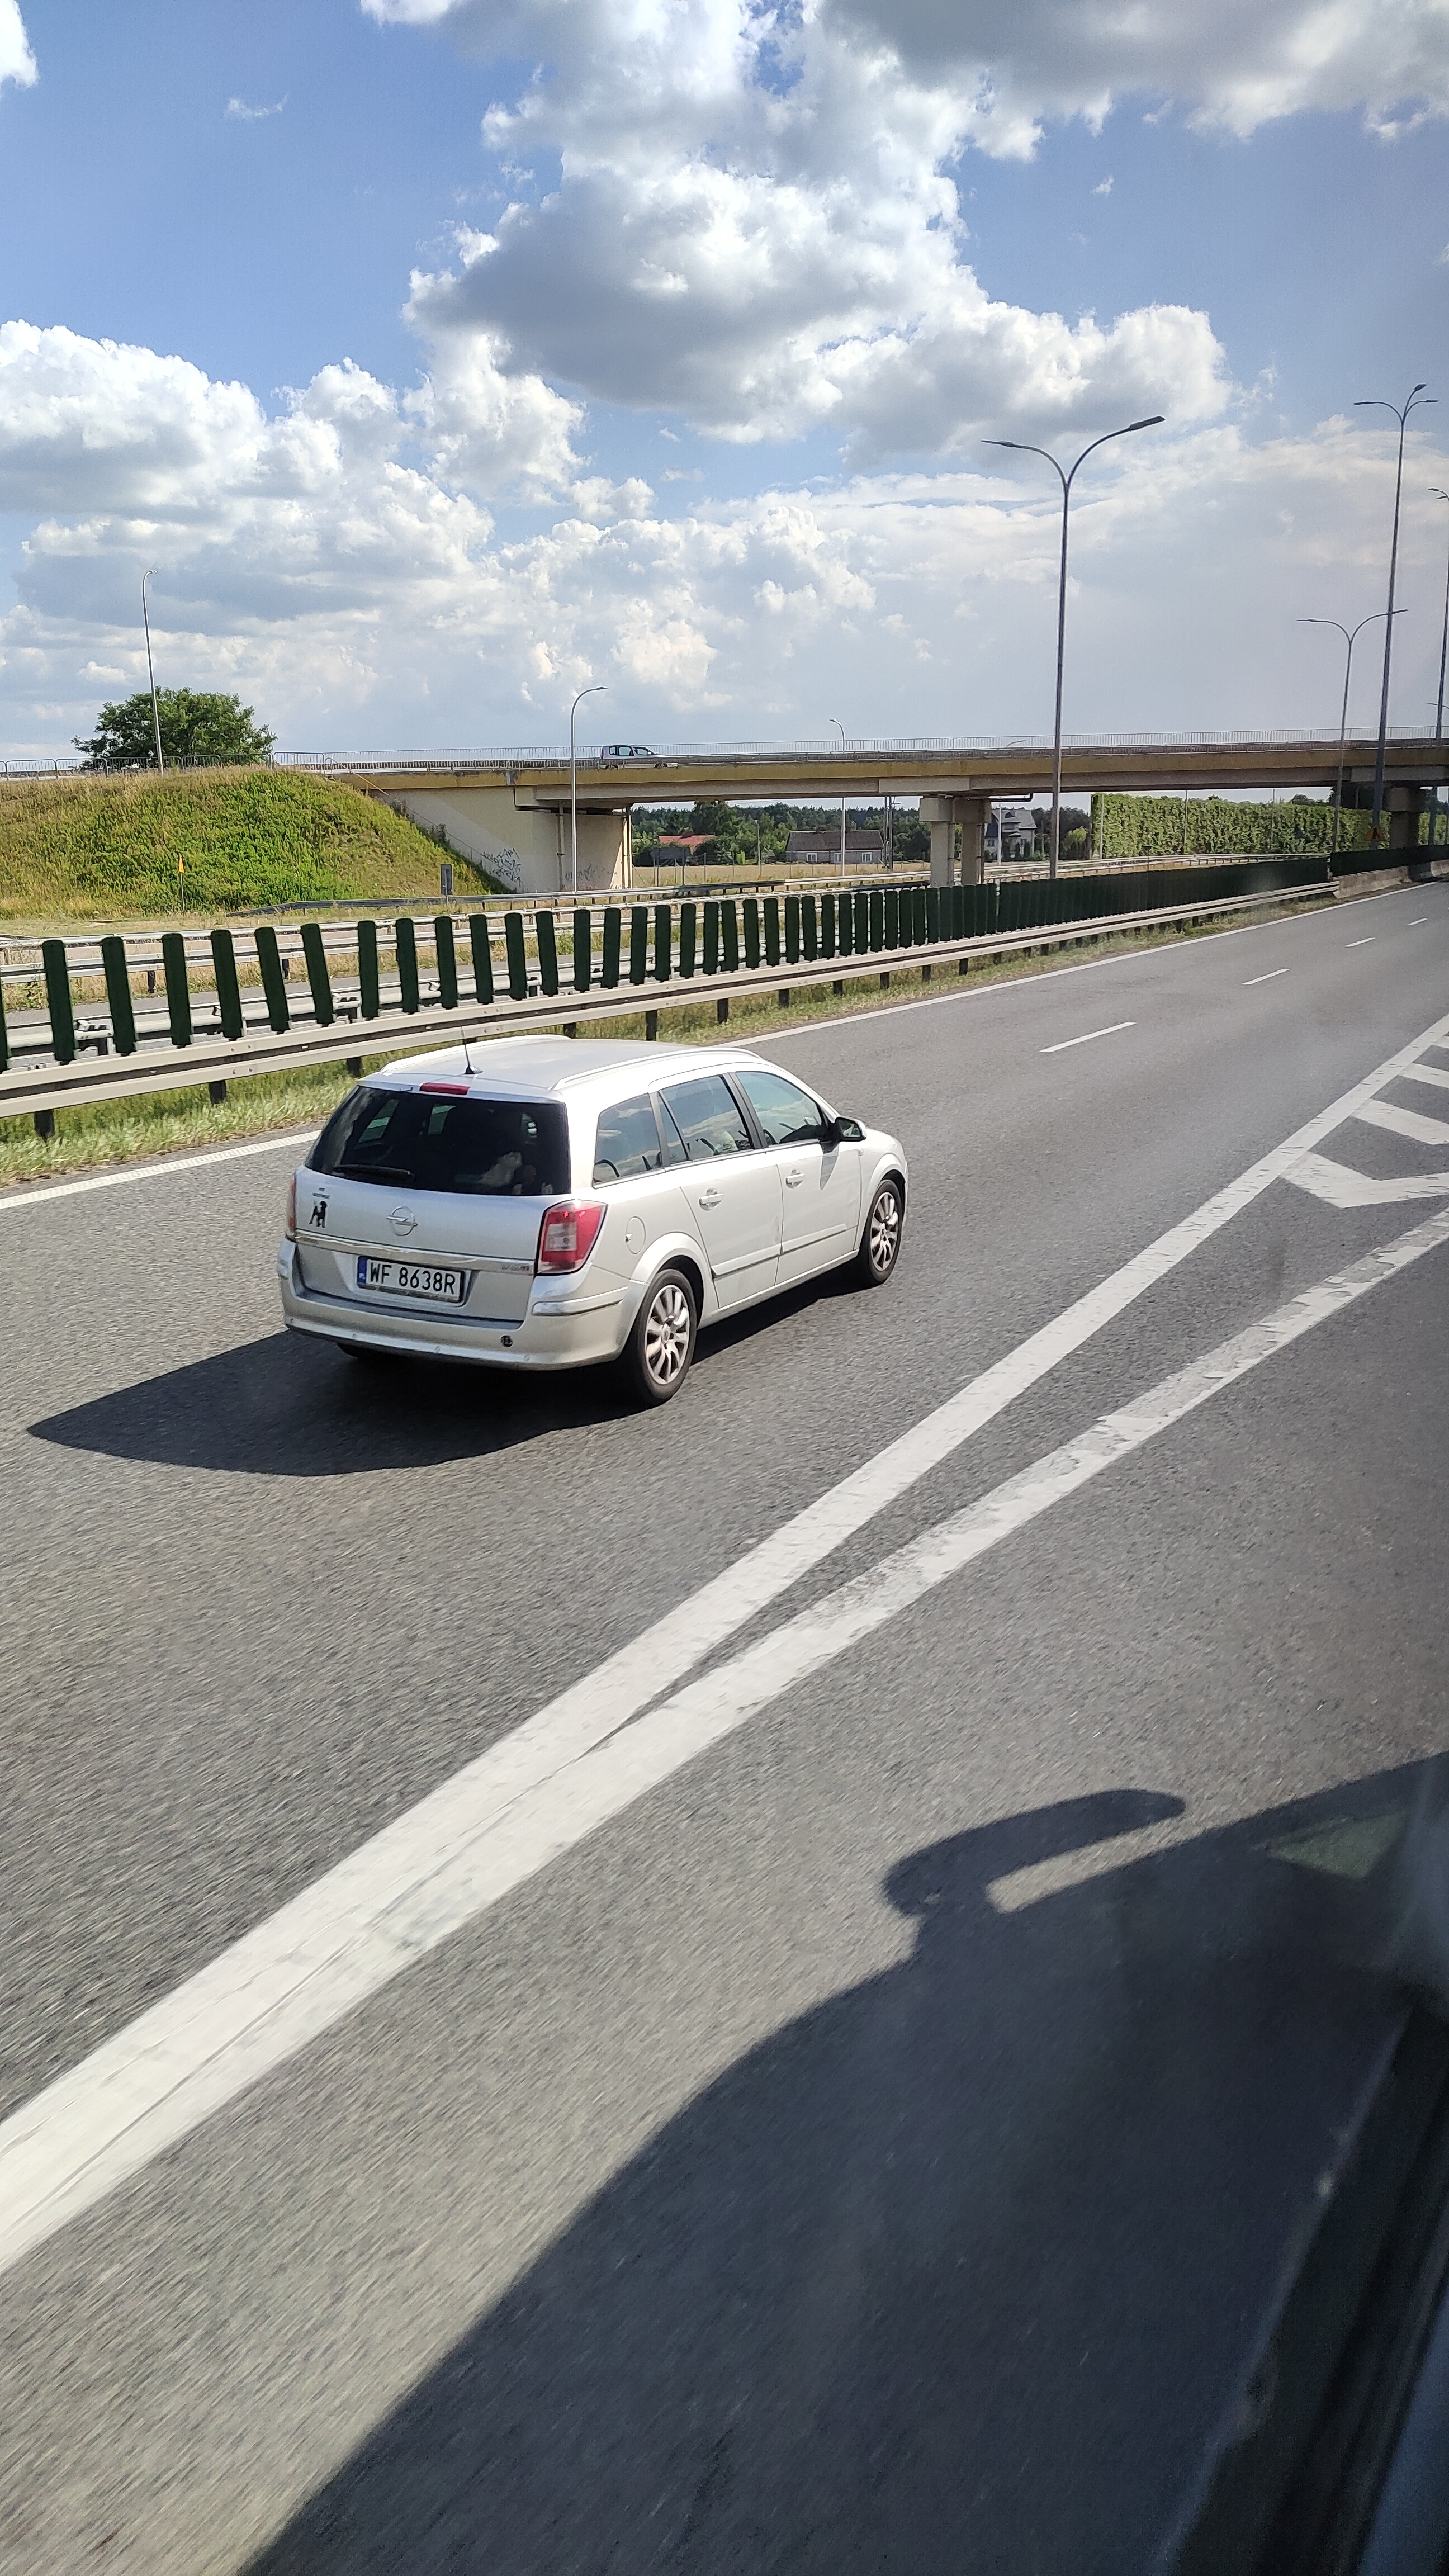number_plate: (355, 1257, 466, 1305)
